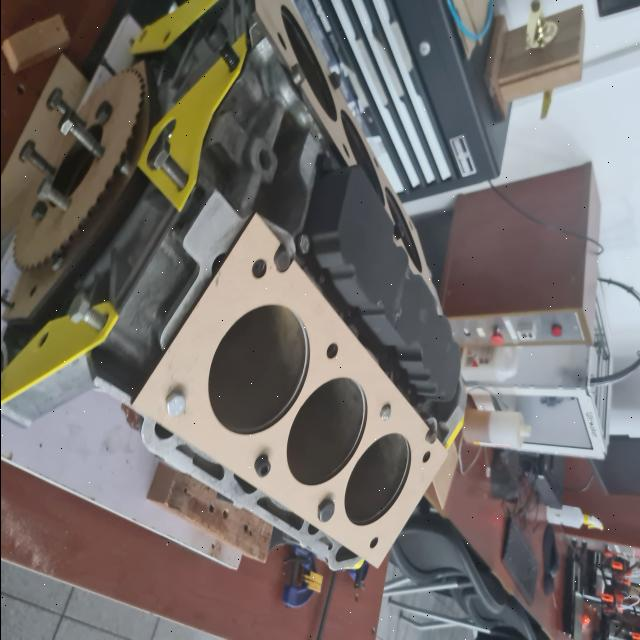vista1: (132, 212, 448, 567)
